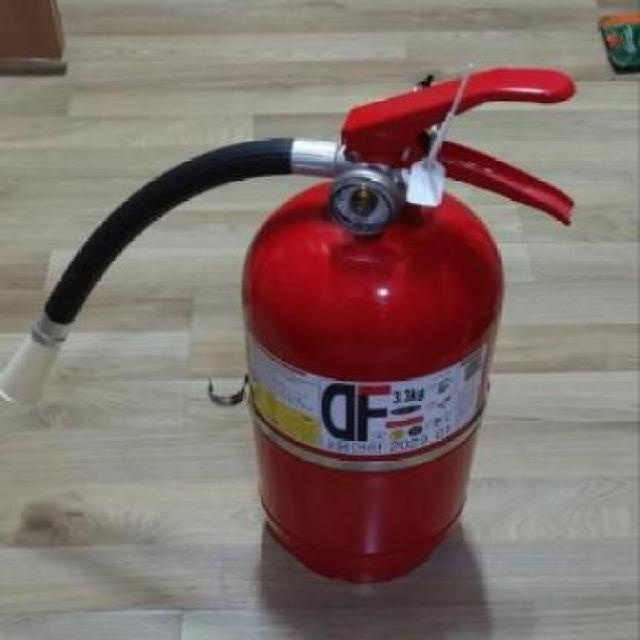fire extinguisher: (0, 65, 578, 583)
